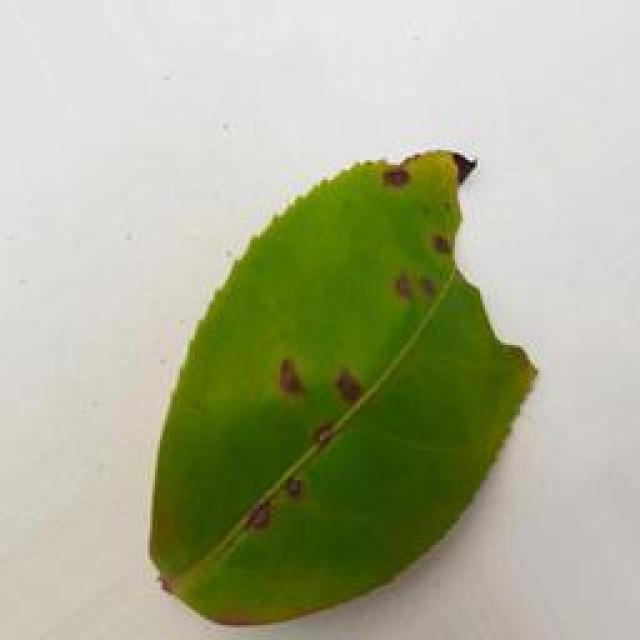Helopeltis: (118, 120, 576, 628)
